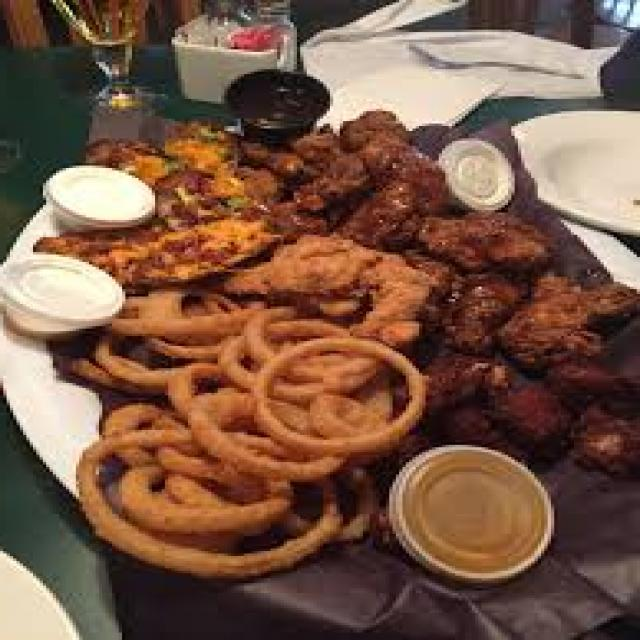Chicken Wings: (408, 93, 640, 459)
Onion Rings: (37, 227, 436, 574)
